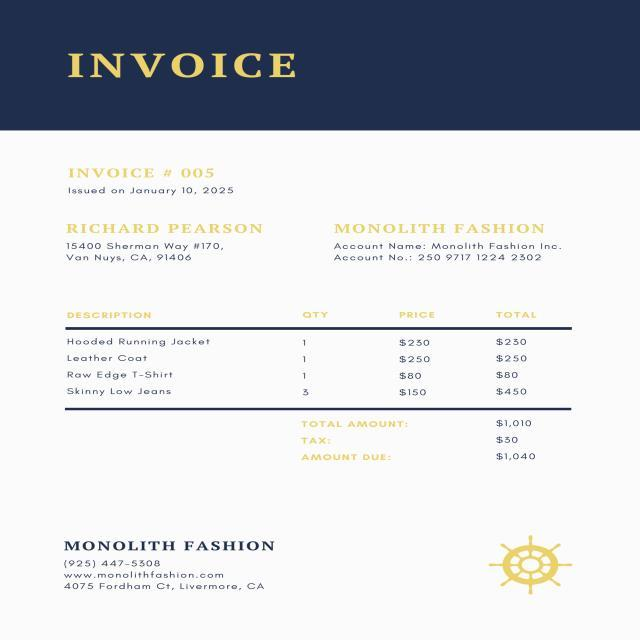ROI: (53, 292, 588, 413), (56, 532, 283, 601), (327, 216, 564, 279), (289, 413, 546, 471), (59, 215, 270, 276), (65, 45, 298, 88), (57, 159, 249, 201)
